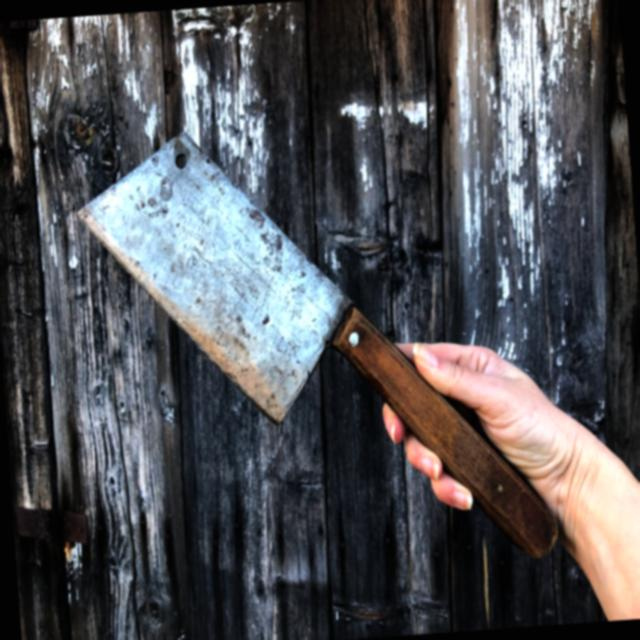cleaver: (71, 107, 584, 588)
